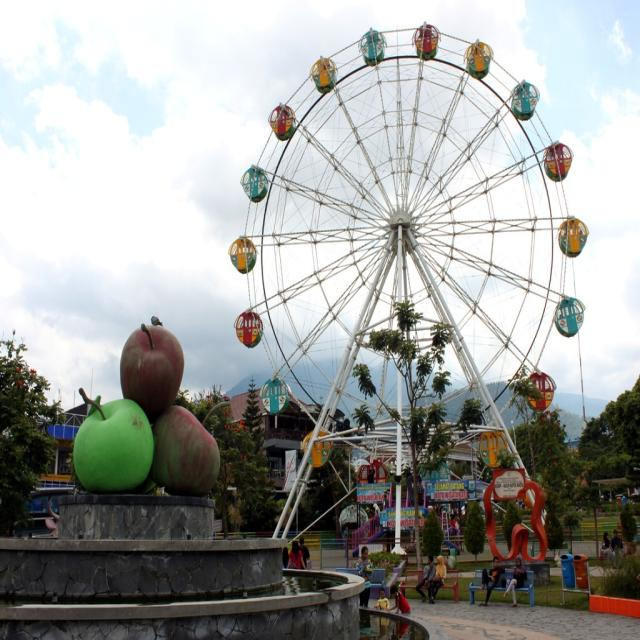Healty Apple: (120, 322, 186, 422), (154, 406, 222, 500), (81, 403, 152, 489)
